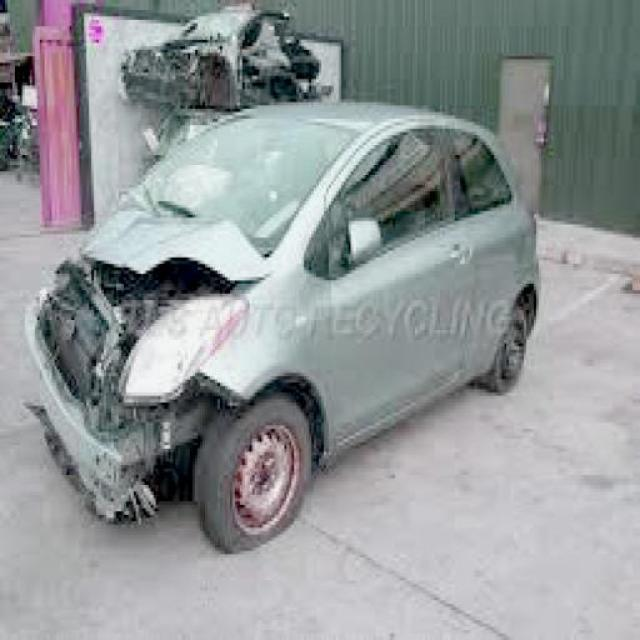car damage: (27, 174, 290, 523)
